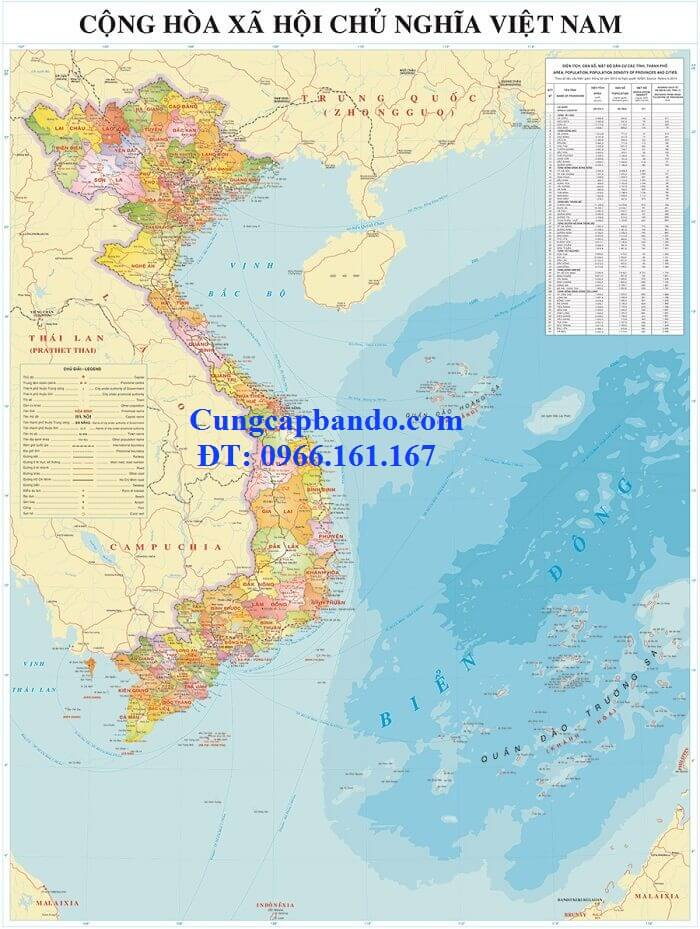Island: (458, 584, 691, 784), (414, 352, 515, 415)
